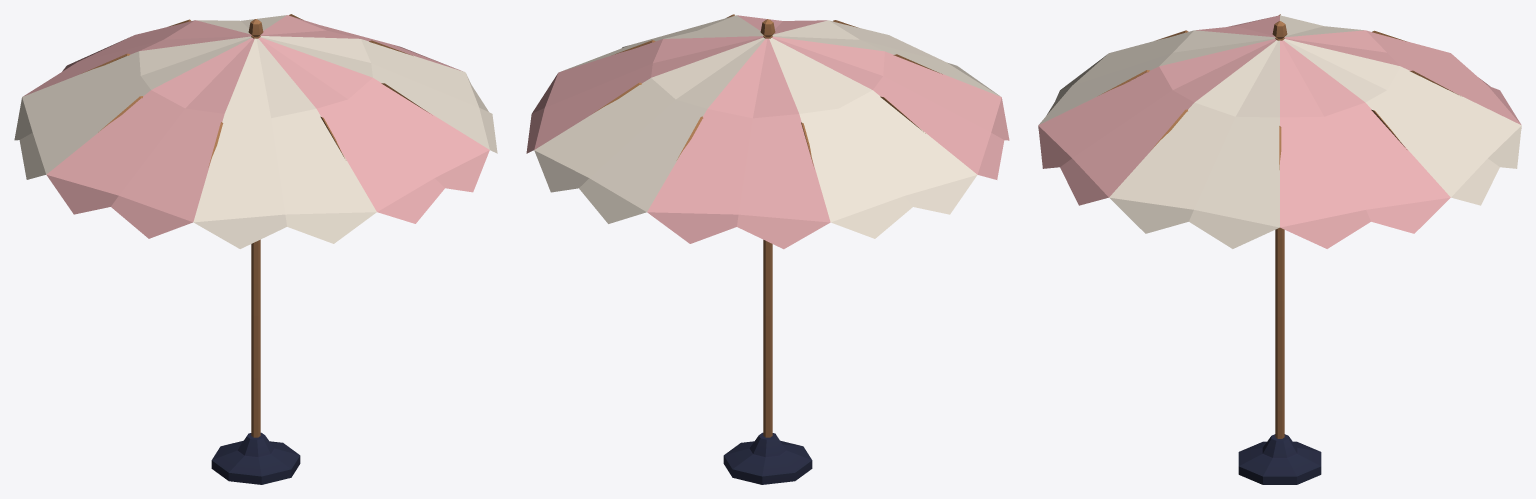
The model's file is parasol.glb.
3 renders of one model, left to right at view 1: azimuth 30°, elevation 25°; view 2: azimuth 150°, elevation 25°; view 3: azimuth 270°, elevation 25°, orthographic.
Visible parts, largest first — view 1: parasol.001; view 2: parasol.001; view 3: parasol.001.
Boxes of the visible parts, x1=… form: parasol.001: x1=14, y1=14, x2=497, y2=484; parasol.001: x1=526, y1=14, x2=1009, y2=484; parasol.001: x1=1038, y1=14, x2=1521, y2=484.
Bounding box in the file's own units: 2.6 × 2.65 × 2.6.
1 material, 1 textured.
